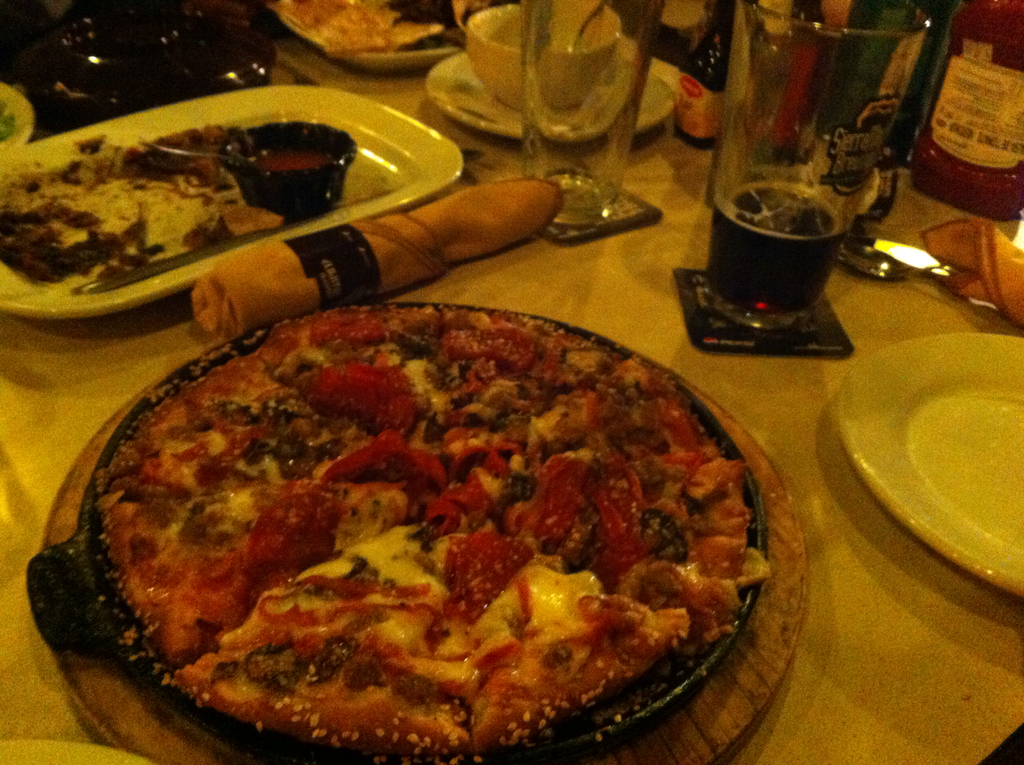Pizza: (106, 302, 771, 758)
